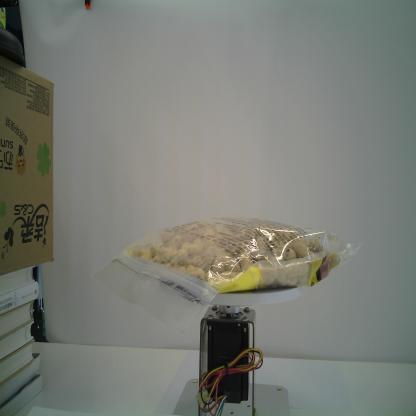Dried Food: (86, 210, 367, 339)
